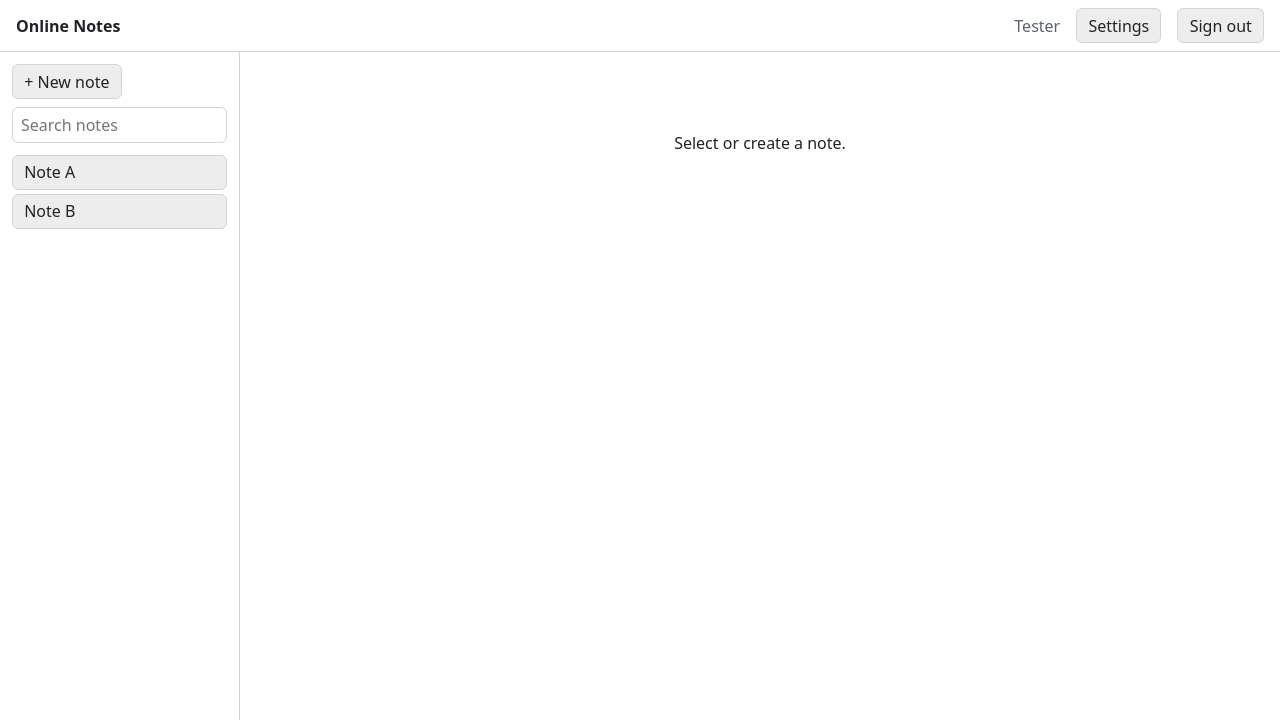
it: revision-aware deletion — what the user sees › refuses a stale delete: says so, shows the newer note, and does not retry by itself
Click the button "Note A": (120, 172) x1=12 y1=155 x2=227 y2=190
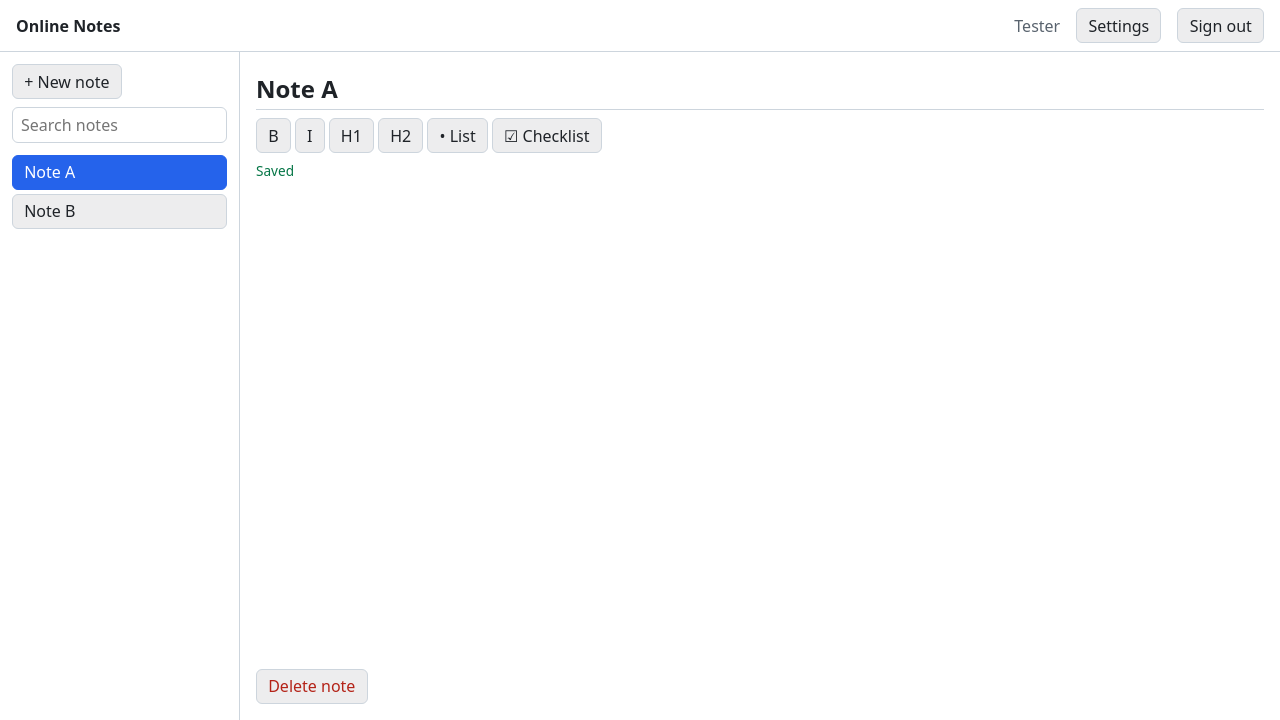
Click the button "Delete note": (312, 686) x1=256 y1=669 x2=368 y2=704
Wait 5000 ms
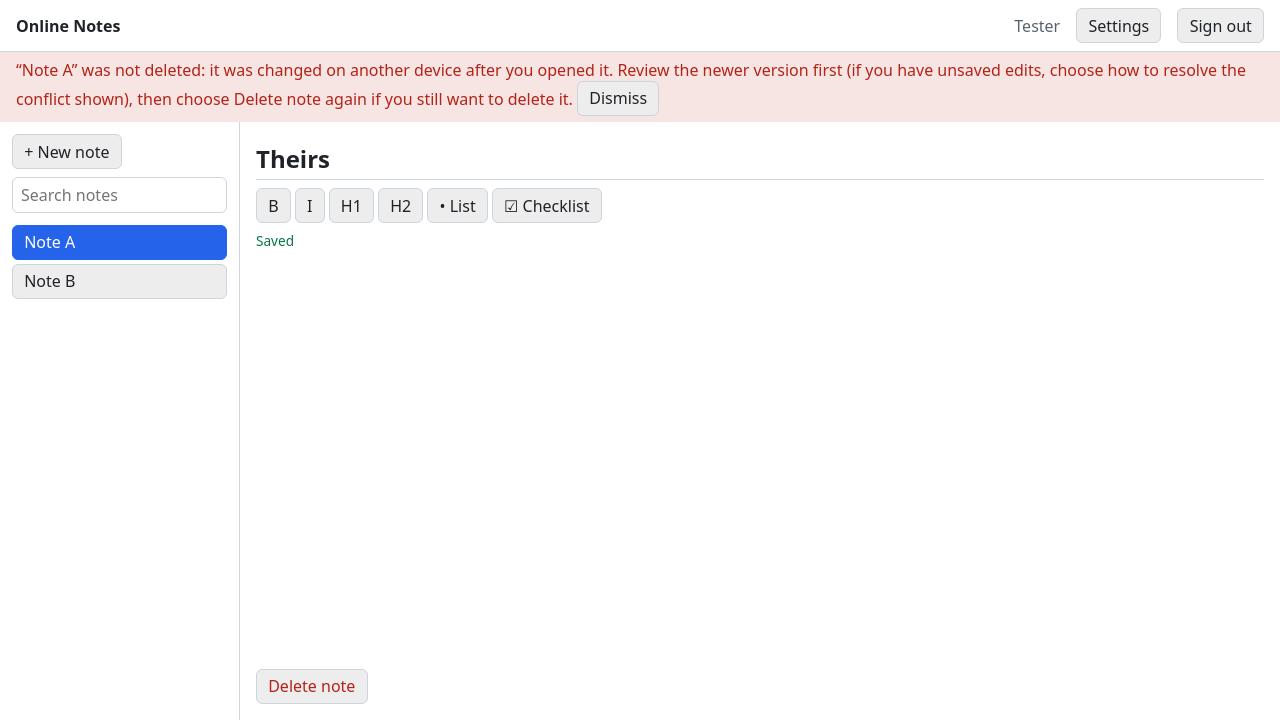
Result: the message with class "banner" shows "was not deleted" at x1=16 y1=59 x2=1246 y2=109
Result: the message with class "banner" shows "changed on another device" at x1=16 y1=59 x2=1246 y2=109
Result: the field with class "title" holds "Theirs" at x1=256 y1=138 x2=1264 y2=180
